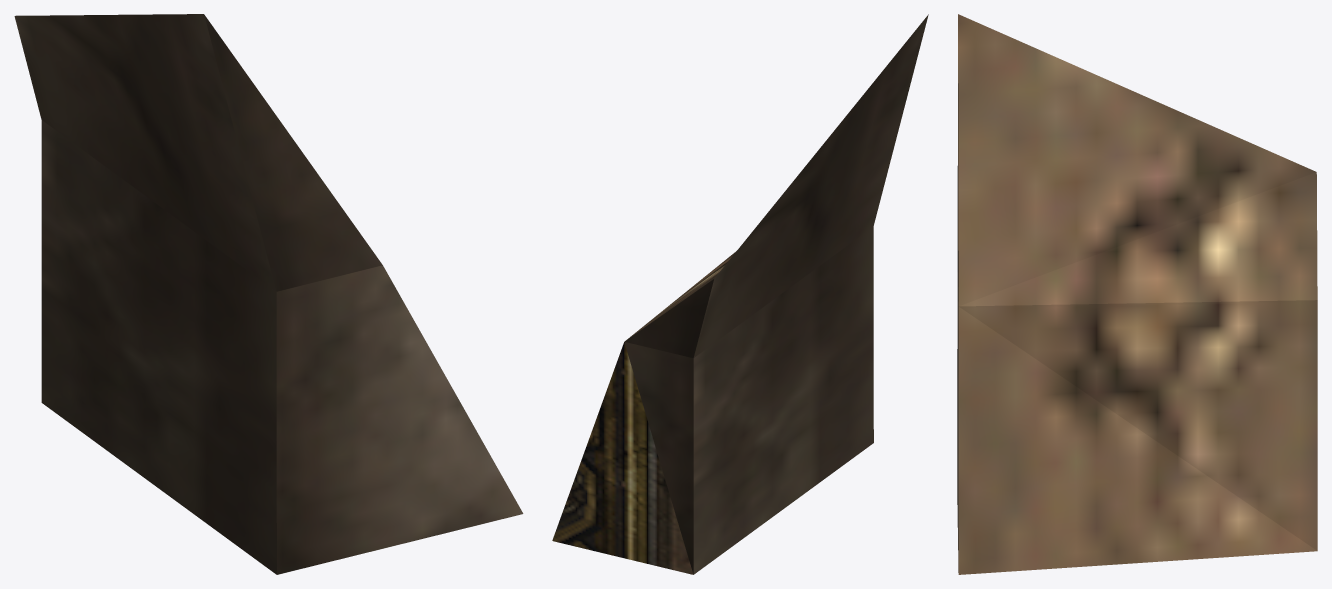
File: arch_a_broken_03.FBX
3 renders of one model, left to right at view 1: azimuth 30°, elevation 25°; view 2: azimuth 150°, elevation 25°; view 3: azimuth 270°, elevation 25°, orthographic. The views are drawn at different scales.
Visible parts, largest first — view 1: arch_a_broken_03; view 2: arch_a_broken_03; view 3: arch_a_broken_03.
Boxes of the visible parts, left/top/right/bottom form: arch_a_broken_03: left=14, top=14, right=523, bottom=574; arch_a_broken_03: left=552, top=14, right=928, bottom=574; arch_a_broken_03: left=957, top=14, right=1317, bottom=574.
Size of the model in its own units: 0.4876 by 0.8424 by 0.6233.
